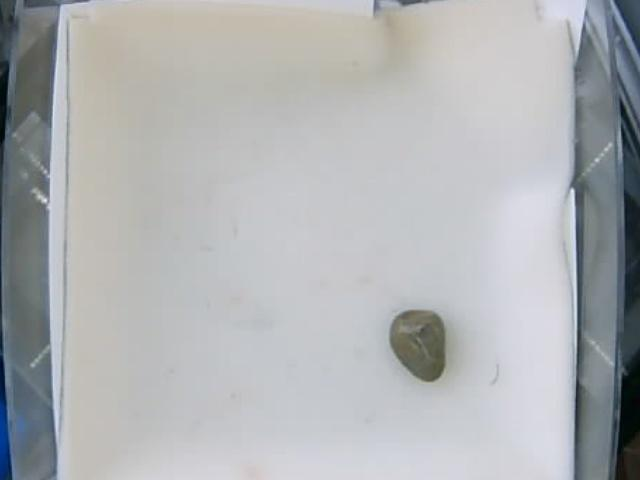Pebble: (390, 308, 446, 384)
